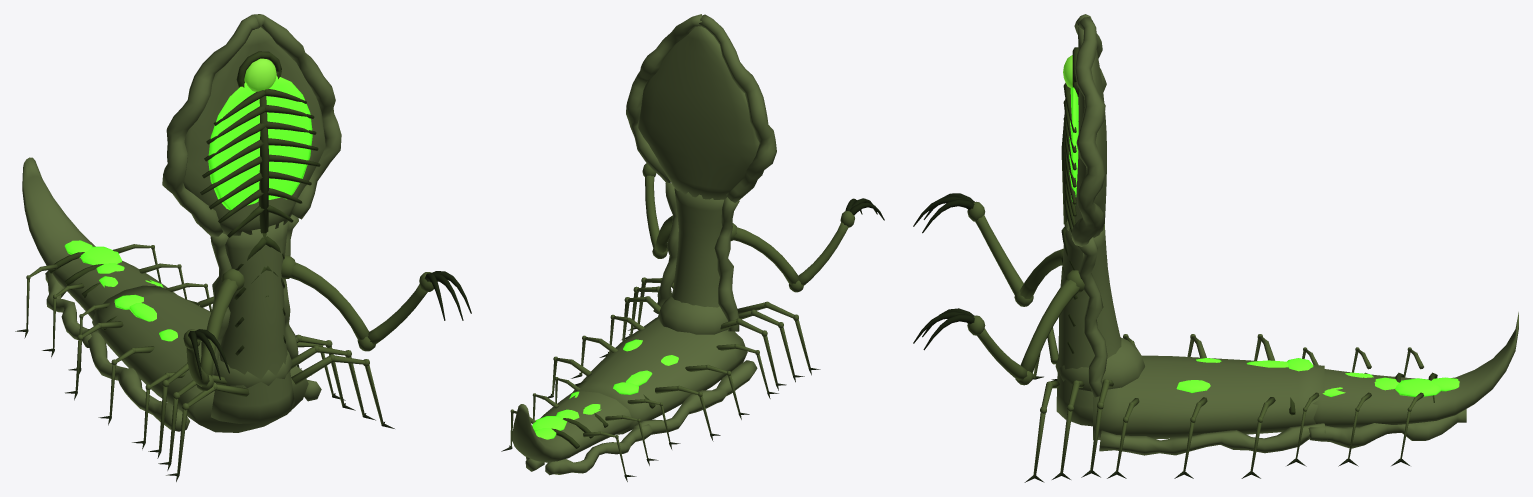
File: rastropoda.glb
The picture shows the model from 3 angles, left to right: view 1: azimuth 30°, elevation 25°; view 2: azimuth 150°, elevation 25°; view 3: azimuth 270°, elevation 25°; orthographic projection. The views are drawn at different scales.
Parts seen in each view (by area): view 1: P_head, P_seg0, P_seg1, P_seg2, P_foreL, P_armL, P_armR, P_foreR, P_leg0L0, P_leg0R0, P_leg0L1, P_leg0R1 (+3 smaller); view 2: P_head, P_seg1, P_seg0, P_seg2, P_foreR, P_armR, P_foreL, P_leg0R0, P_leg0R2, P_leg0R1, P_leg1R2; view 3: P_seg1, P_seg2, P_seg0, P_head, P_foreR, P_foreL, P_armL, P_armR.
Boxes of the visible parts, x1,y1,x2,y2 form: P_head: (162,14,341,237); P_seg0: (201,214,298,423); P_seg1: (88,285,321,432); P_seg2: (22,157,176,347); P_foreL: (357,271,471,351); P_armL: (281,255,369,340); P_armR: (200,268,244,376); P_foreR: (183,329,229,390); P_leg0L0: (291,354,394,428); P_leg0R0: (166,383,249,481); P_leg0L1: (290,345,375,420); P_leg0R1: (158,375,227,470); P_head: (626,14,776,202); P_seg1: (573,317,757,434); P_seg0: (653,183,739,334); P_seg2: (512,391,652,475); P_foreR: (789,198,884,292); P_armR: (730,223,798,284); P_foreL: (642,163,667,258); P_leg0R0: (737,301,820,375); P_leg0R2: (720,318,786,390); P_leg0R1: (738,309,804,382); P_leg1R2: (655,385,720,441); P_seg1: (1093,355,1325,455); P_seg2: (1308,312,1518,448); P_seg0: (1055,222,1144,426); P_head: (1061,14,1106,246); P_foreR: (913,193,1033,306); P_foreL: (913,308,1033,385); P_armL: (1020,270,1084,372); P_armR: (1019,248,1063,298).
Size of the model in its own units: 2.07 by 3.05 by 4.05.
